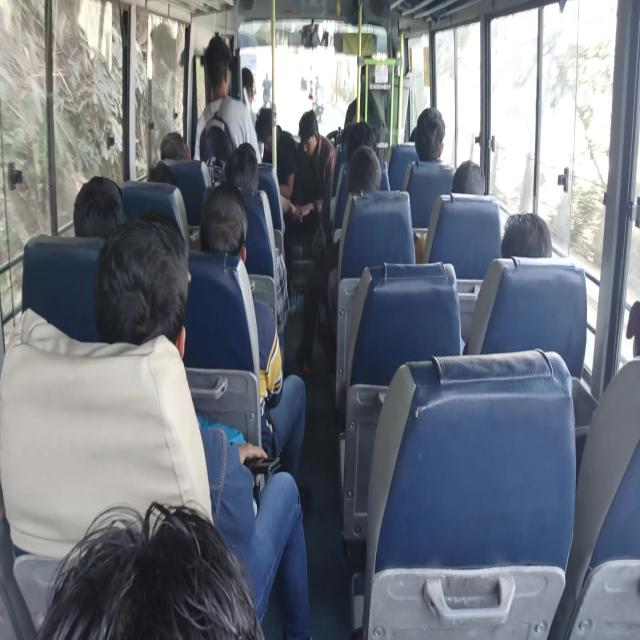person: (61, 510, 243, 640), (116, 242, 186, 334), (208, 186, 258, 284), (503, 207, 554, 274), (75, 178, 127, 231), (203, 46, 240, 91), (422, 112, 453, 164), (461, 157, 488, 211), (254, 109, 288, 146), (232, 143, 267, 175), (355, 153, 388, 186), (153, 126, 185, 159), (302, 110, 322, 145), (344, 126, 370, 152), (245, 61, 259, 102), (402, 120, 425, 141)
